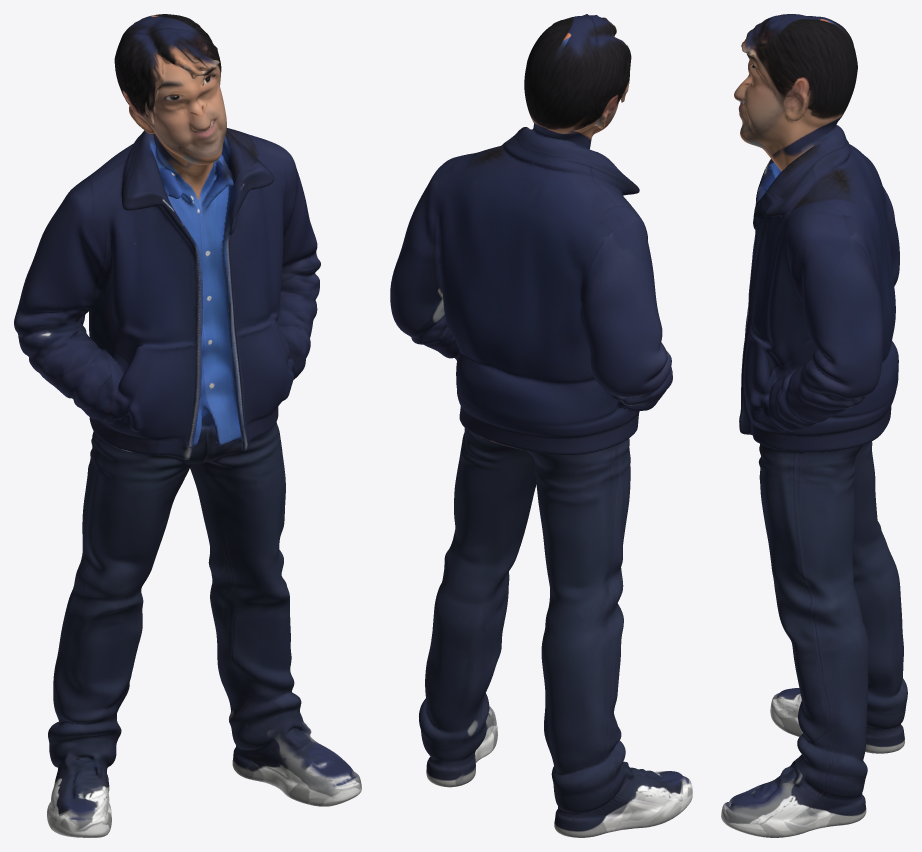
The model's file is jair.glb.
3 renders of one model, left to right at view 1: azimuth 30°, elevation 25°; view 2: azimuth 150°, elevation 25°; view 3: azimuth 270°, elevation 25°, orthographic. The views are drawn at different scales.
Parts seen in each view (by area): view 1: tripo_node_65e6c92c-5120-4624-8990-8047bd390772; view 2: tripo_node_65e6c92c-5120-4624-8990-8047bd390772; view 3: tripo_node_65e6c92c-5120-4624-8990-8047bd390772.
Part boxes in pixels (box(x1,y1,x2,y2)): tripo_node_65e6c92c-5120-4624-8990-8047bd390772: box(14, 14, 361, 837); tripo_node_65e6c92c-5120-4624-8990-8047bd390772: box(390, 14, 692, 837); tripo_node_65e6c92c-5120-4624-8990-8047bd390772: box(721, 14, 907, 837).
Bounding box in the file's own units: 0.3809 × 1 × 0.226.
1 material, 1 textured.
